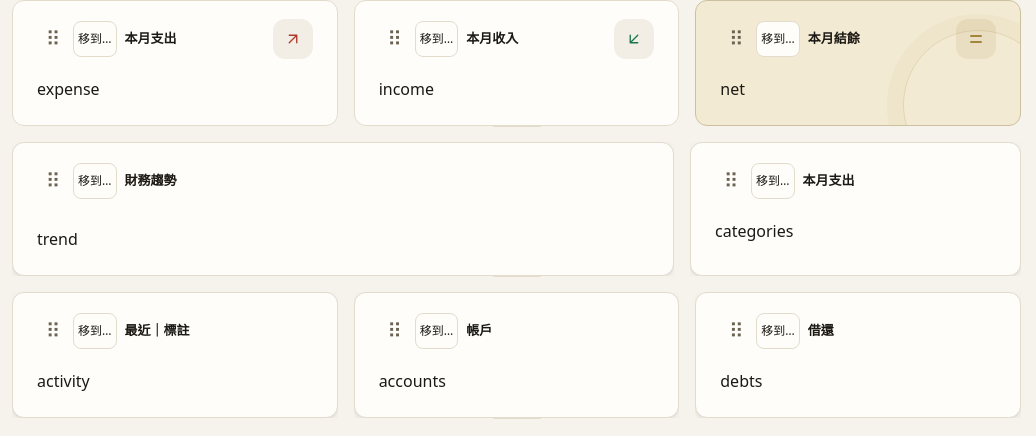
Test: HomeLayoutRenderer › closes and returns focus when Tab leaves the last move direction
The image size is (1036, 436).
Click the 1st button "移到…" at (95, 39), box [73,21,116,57]
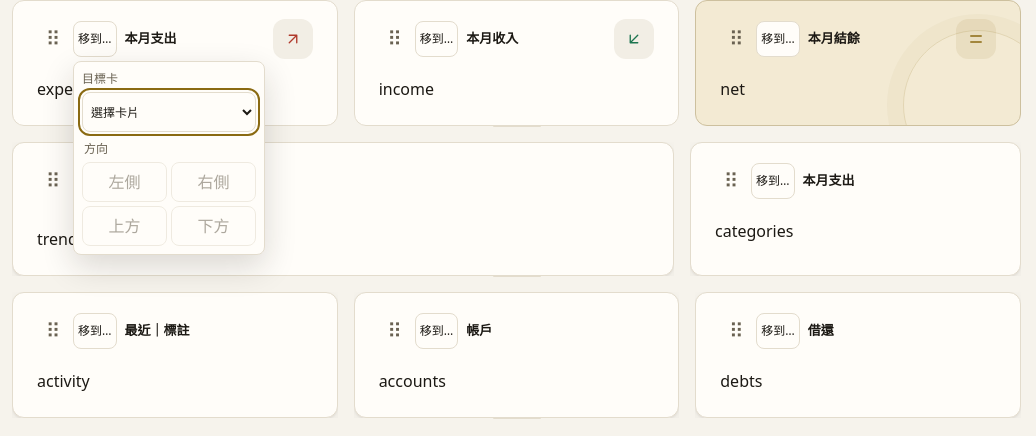
Select "本月收入" in the dropdown labelled "目標卡" at (169, 112), box [82,92,256,132]
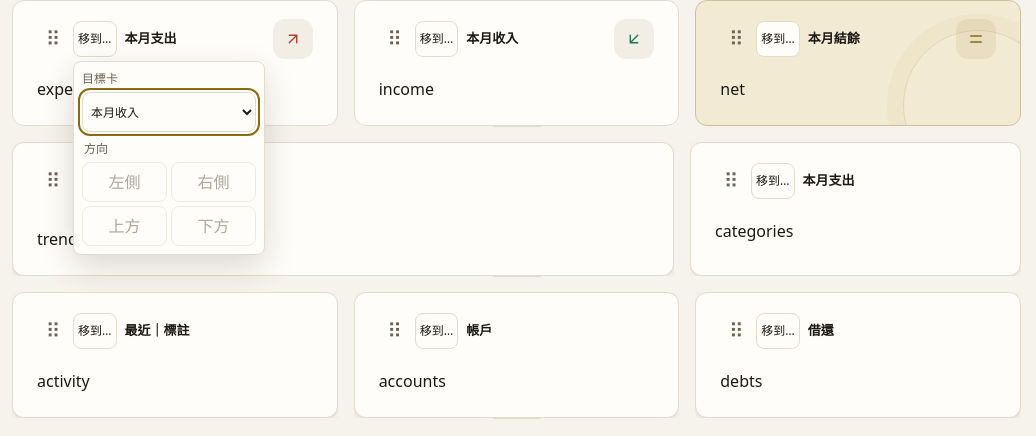
Press Tab
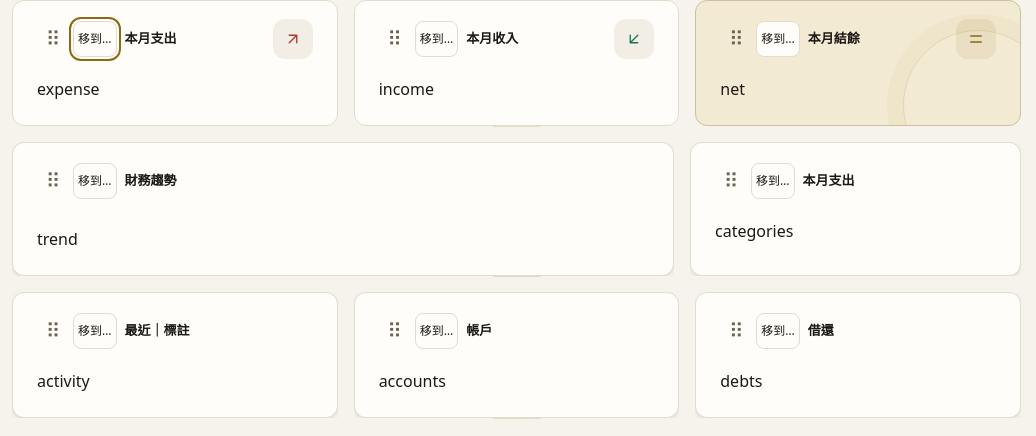
Expected: the text "目標卡" is gone
